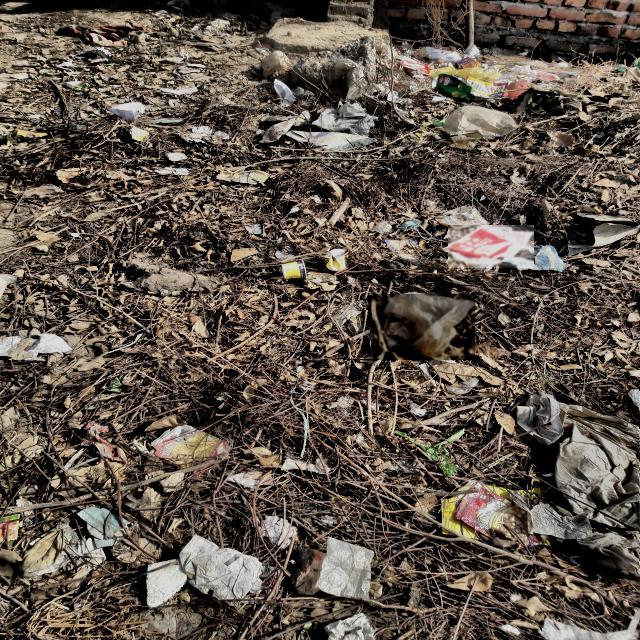anorganik: (374, 294, 475, 360), (448, 226, 534, 267)
organik: (534, 380, 640, 570)
